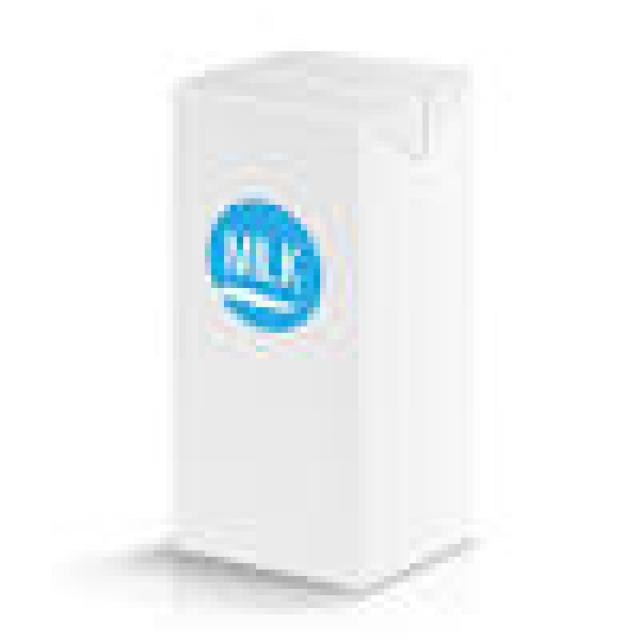non_white_jug: (195, 83, 458, 557)
